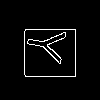Y: (25, 25, 76, 66)
